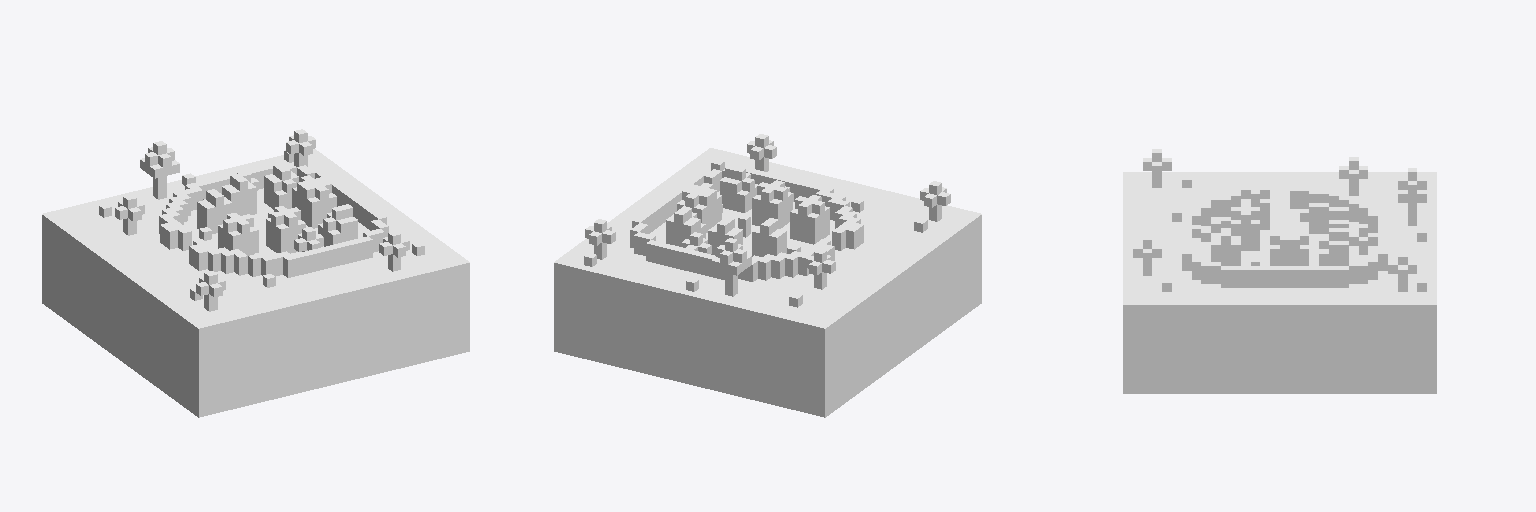
File: Overworld_Land_19.obj
The picture shows the model from 3 angles: view 1: azimuth 30°, elevation 25°; view 2: azimuth 150°, elevation 25°; view 3: azimuth 270°, elevation 25°; orthographic projection.
Visible parts, largest first — view 1: object 1; view 2: object 1; view 3: object 1.
Boxes of the visible parts, <box> form: object 1: <box>42,129,469,417</box>; object 1: <box>554,134,981,417</box>; object 1: <box>1123,149,1436,393</box>.
Bounding box in the file's own units: 3.2 × 1.6 × 3.2.